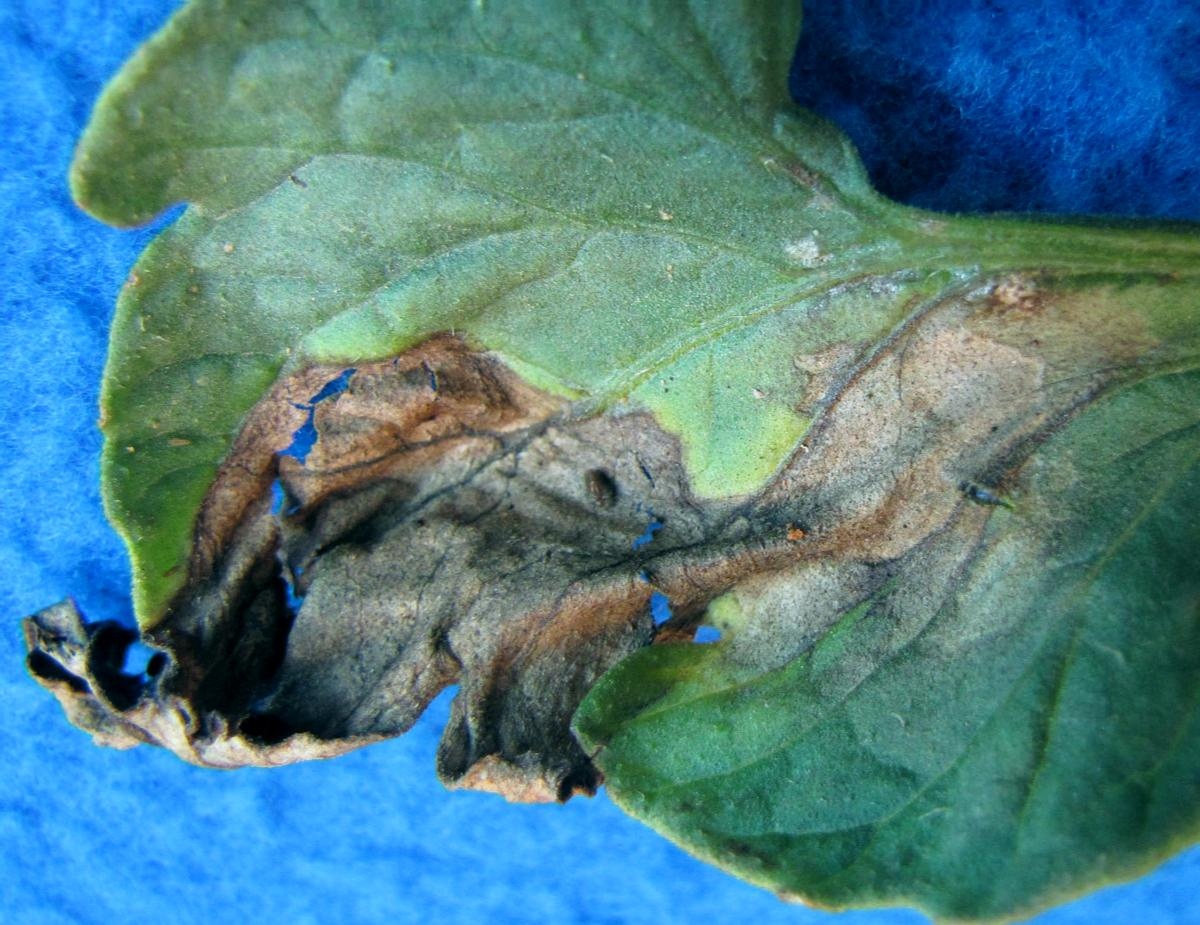Tomato leaf late blight: (14, 16, 1186, 914)
